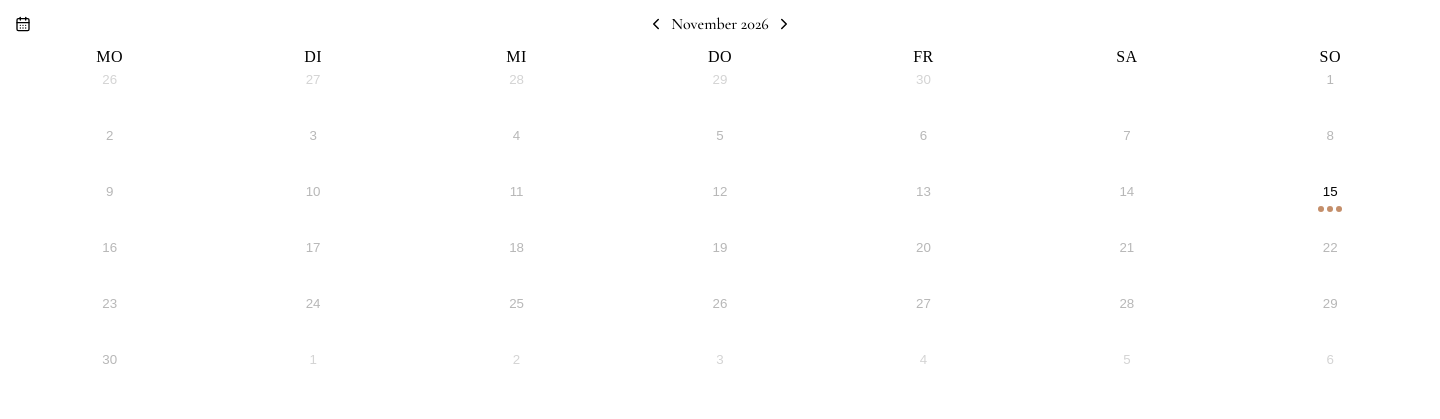
it: Calendar › Day popover › opens popover when day cell with events is clicked
Click the button with class "has-events" at (1330, 206), box x1=1229 y1=178 x2=1432 y2=234
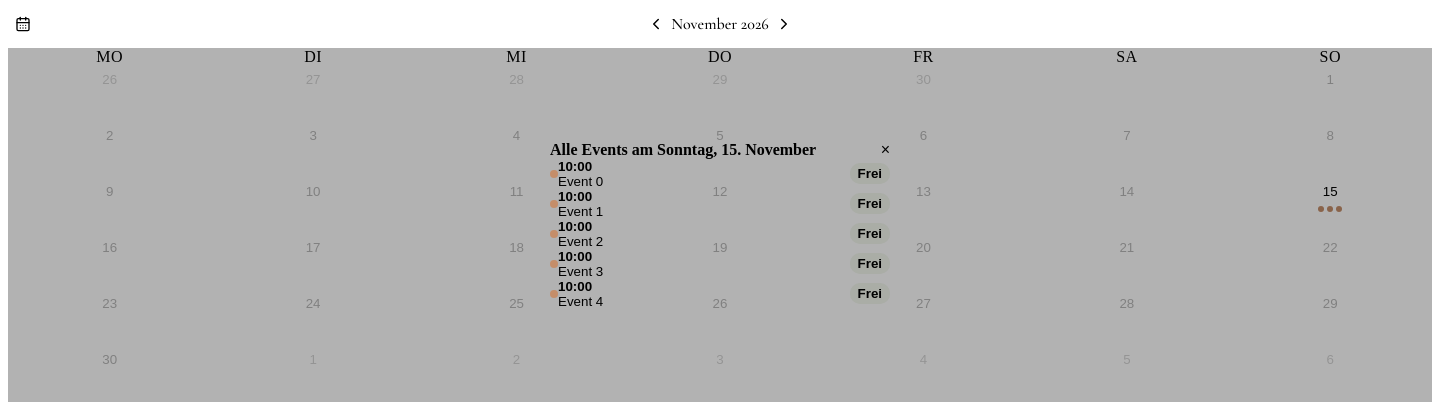
Expected: the text "Alle Events am Sonntag, 15. November" is shown, x1=550 y1=140 x2=816 y2=158
